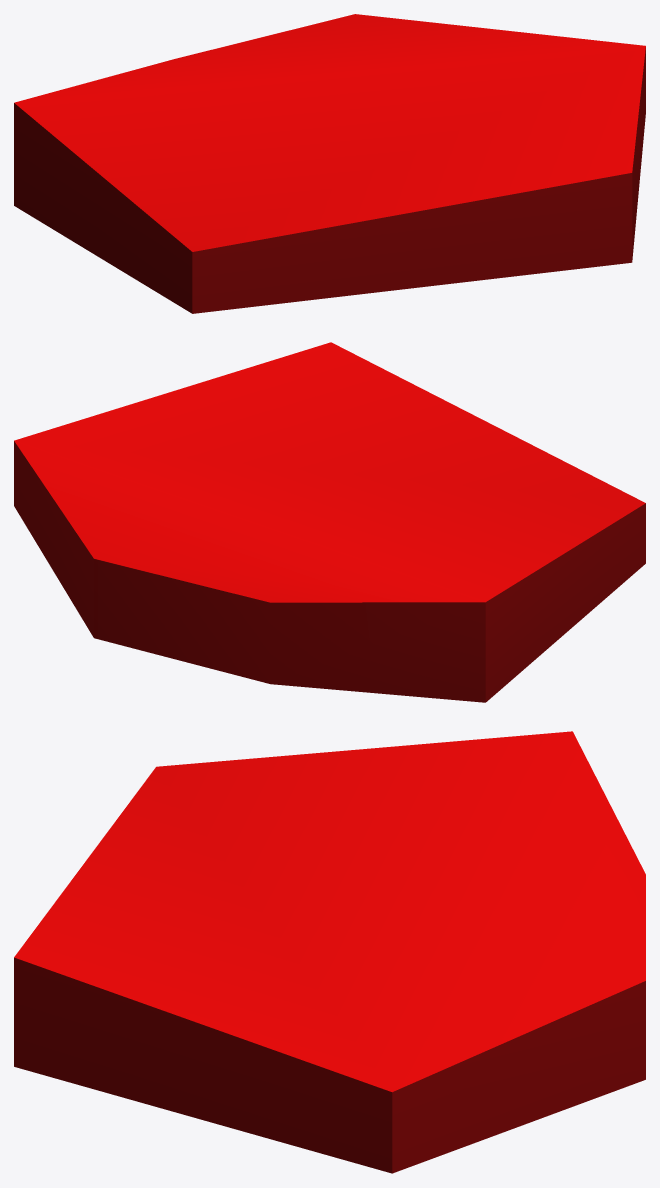
The model's file is geology-landforms-icedrift_v2.fbx.
3 renders of one model, top to bottom at view 1: azimuth 30°, elevation 25°; view 2: azimuth 150°, elevation 25°; view 3: azimuth 270°, elevation 25°, orthographic. The views are drawn at different scales.
Parts seen in each view (by area): view 1: IceDrift_v2; view 2: IceDrift_v2; view 3: IceDrift_v2.
Part boxes in pixels (left/top/right/bottom): IceDrift_v2: left=14, top=14, right=645, bottom=313; IceDrift_v2: left=14, top=342, right=645, bottom=702; IceDrift_v2: left=14, top=731, right=645, bottom=1173.
Bounding box in the file's own units: 2.46 × 0.4718 × 1.99.
